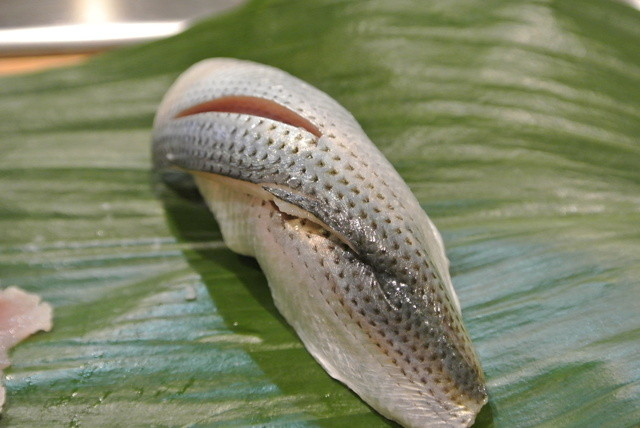spotted-shad: (146, 53, 490, 428)
